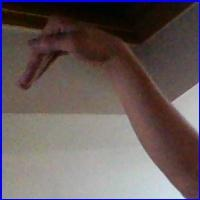A: (14, 12, 124, 94)
